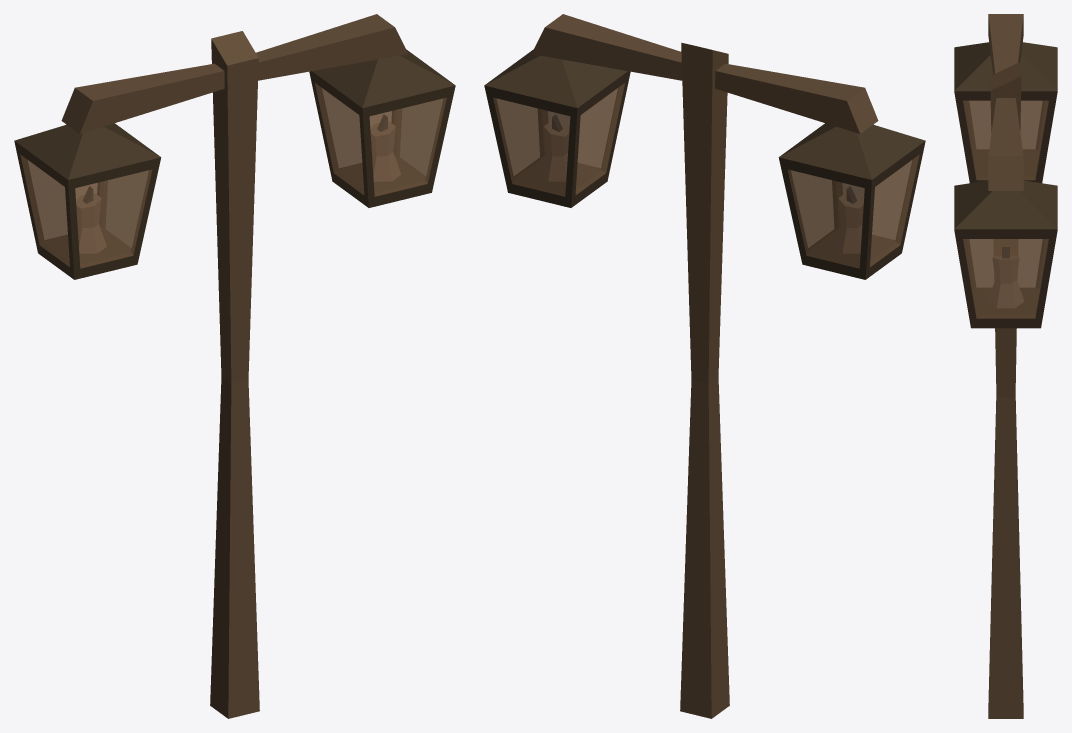
The model's file is Lamp_4_Brown.fbx.
3 renders of one model, left to right at view 1: azimuth 30°, elevation 25°; view 2: azimuth 150°, elevation 25°; view 3: azimuth 270°, elevation 25°, orthographic. The views are drawn at different scales.
Visible parts, largest first — view 1: Lamp_4_Brown_Part_1, Lamp_4_Brown_Part_2, Lamp_4_Brown_Part_3, Lamp_4_Brown_Part_4; view 2: Lamp_4_Brown_Part_1, Lamp_4_Brown_Part_2, Lamp_4_Brown_Part_3, Lamp_4_Brown_Part_4; view 3: Lamp_4_Brown_Part_1, Lamp_4_Brown_Part_2, Lamp_4_Brown_Part_3, Lamp_4_Brown_Part_4.
Boxes of the visible parts, x1,y1,x2,y2 form: Lamp_4_Brown_Part_1: (61, 14, 408, 718); Lamp_4_Brown_Part_2: (14, 49, 455, 279); Lamp_4_Brown_Part_3: (20, 83, 446, 268); Lamp_4_Brown_Part_4: (76, 121, 400, 253); Lamp_4_Brown_Part_1: (531, 14, 878, 718); Lamp_4_Brown_Part_2: (484, 49, 925, 279); Lamp_4_Brown_Part_3: (493, 83, 919, 268); Lamp_4_Brown_Part_4: (539, 121, 863, 253); Lamp_4_Brown_Part_1: (988, 14, 1023, 718); Lamp_4_Brown_Part_2: (954, 42, 1057, 328); Lamp_4_Brown_Part_3: (963, 100, 1048, 318); Lamp_4_Brown_Part_4: (988, 255, 1023, 307).
Size of the model in its own units: 184 by 304 by 44.34.
